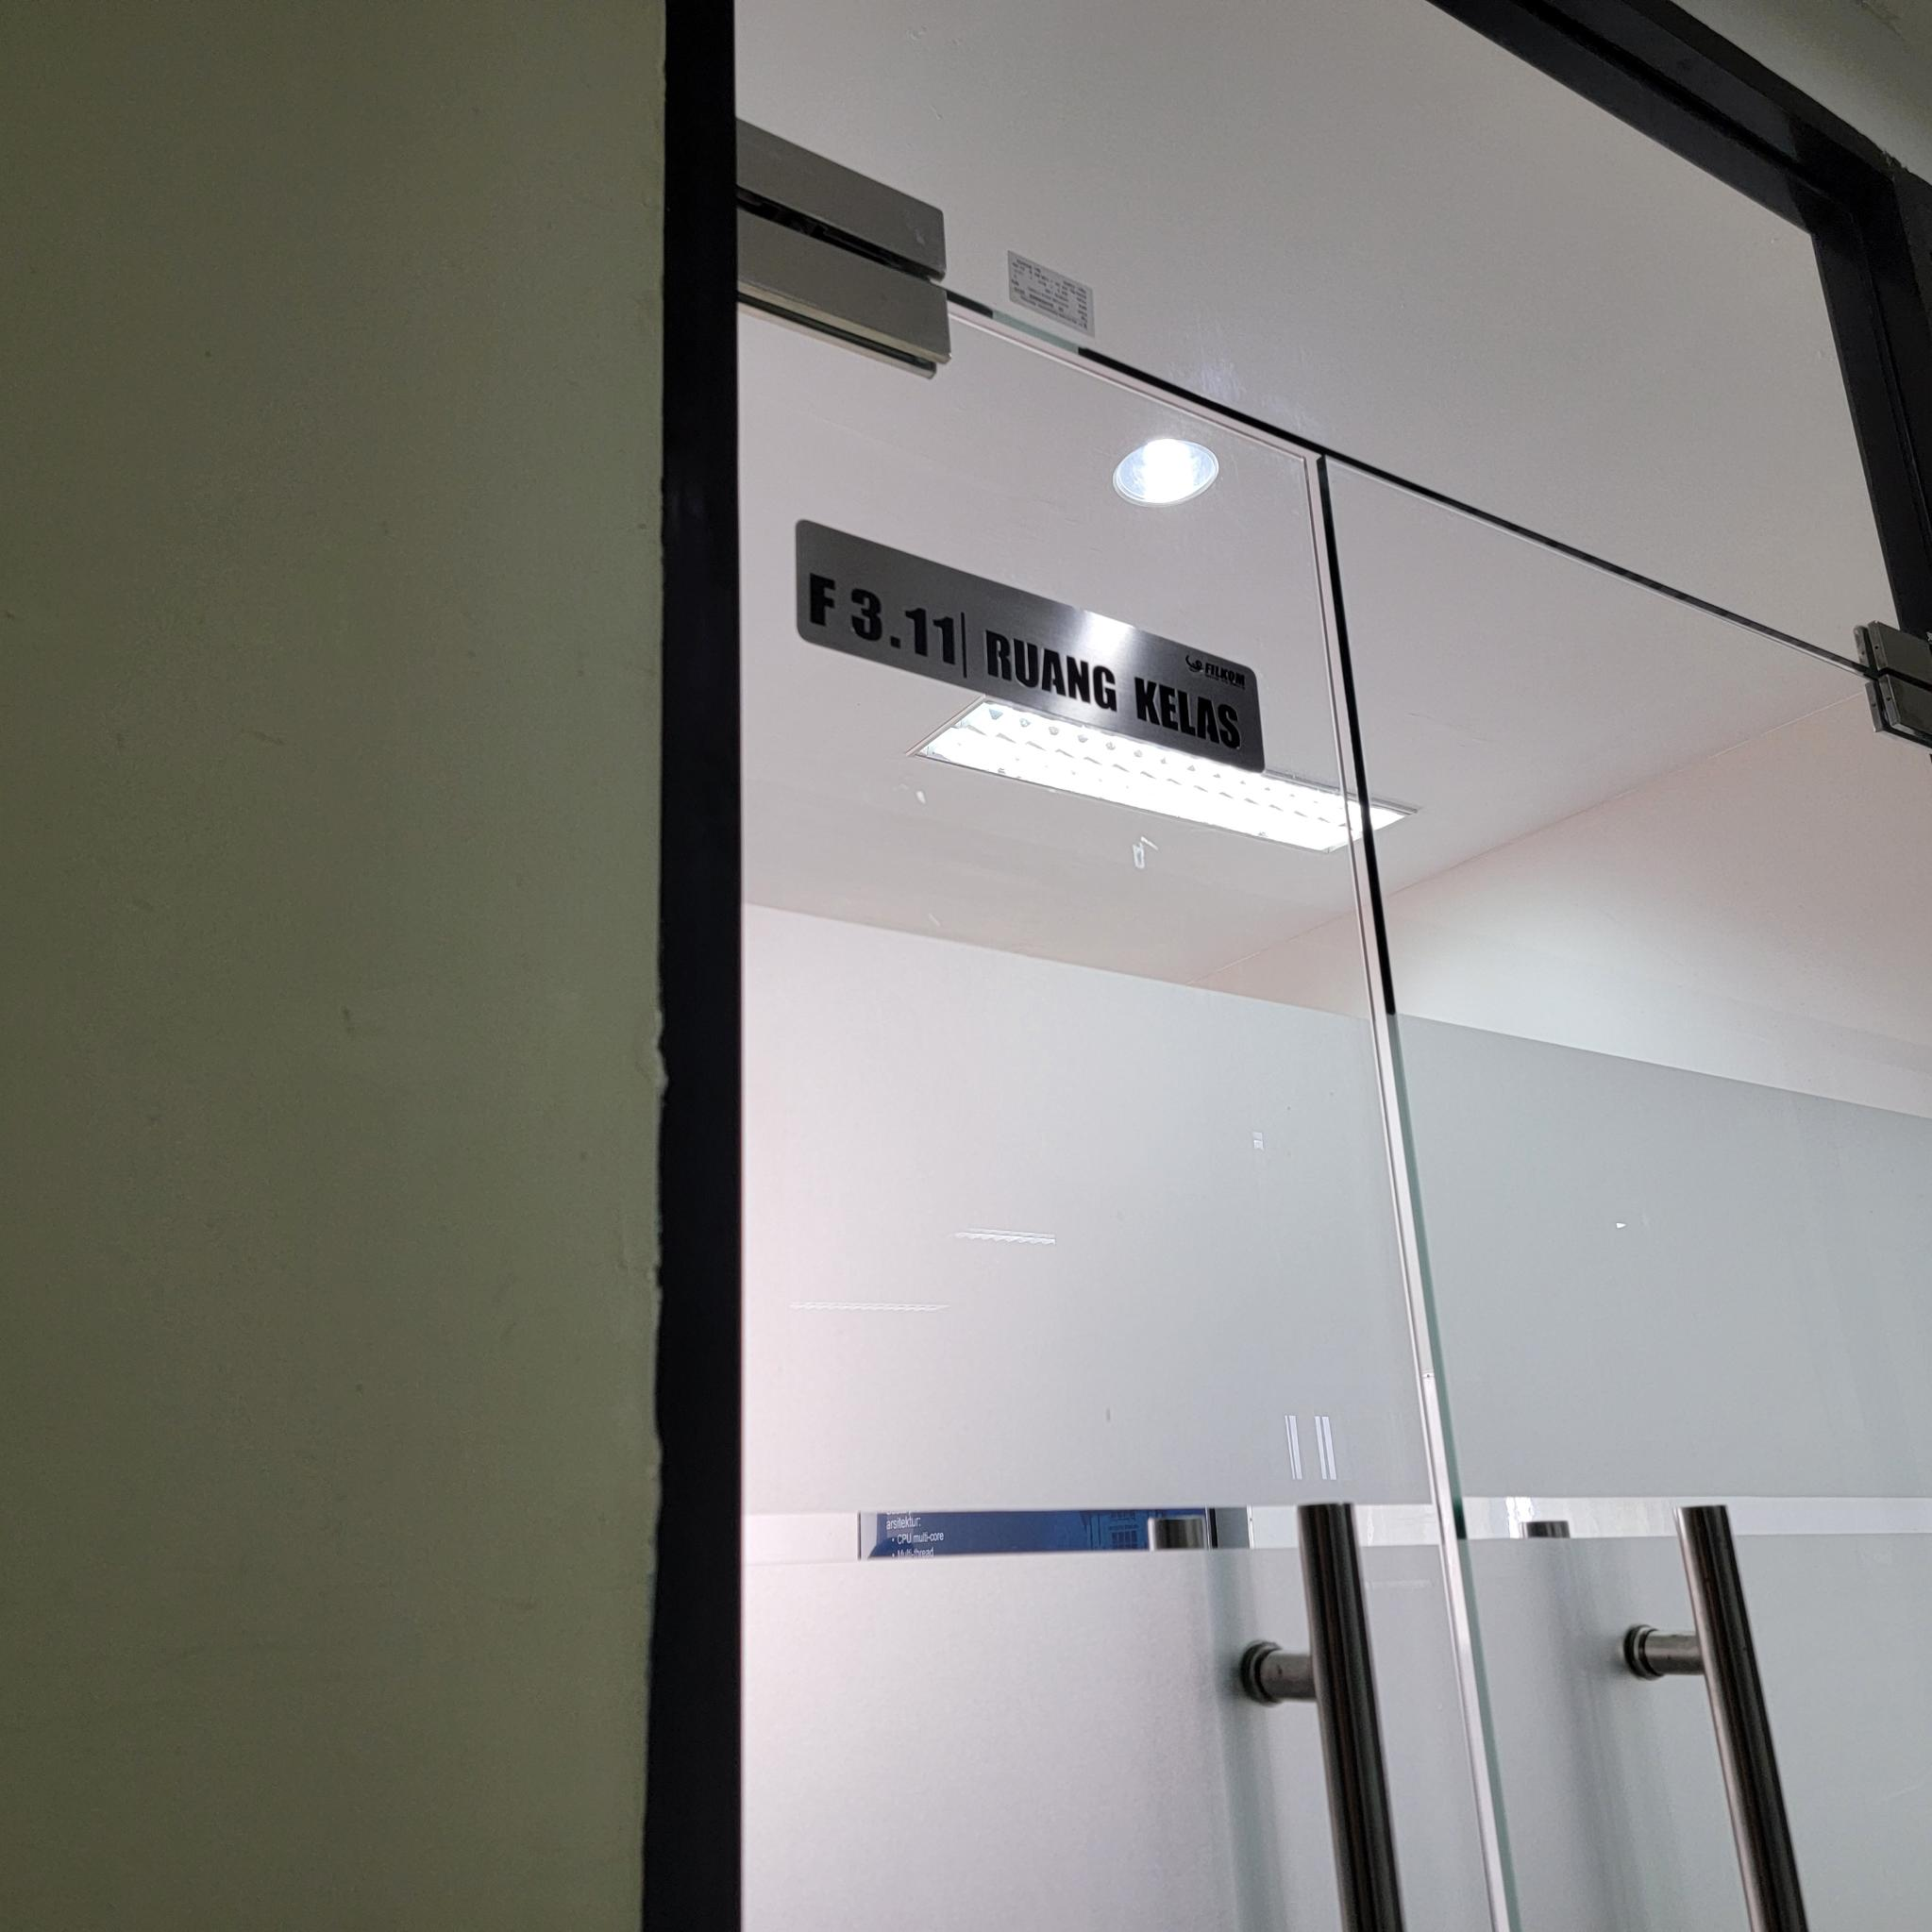plate: (794, 517, 1267, 778)
